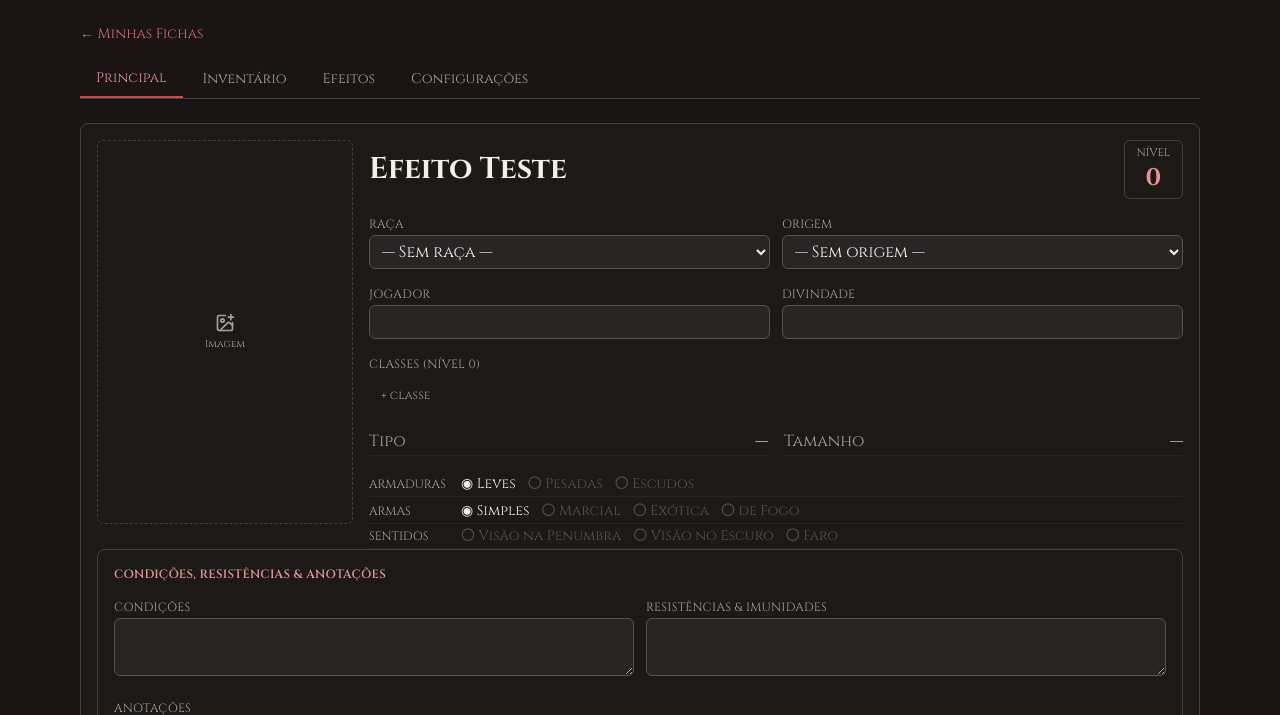
SheetEditor (página única) › abre a aba Efeitos e permite adicionar um efeito avulso
Click the tab "Efeitos".
click(349, 79)  # box [307,60,391,98]
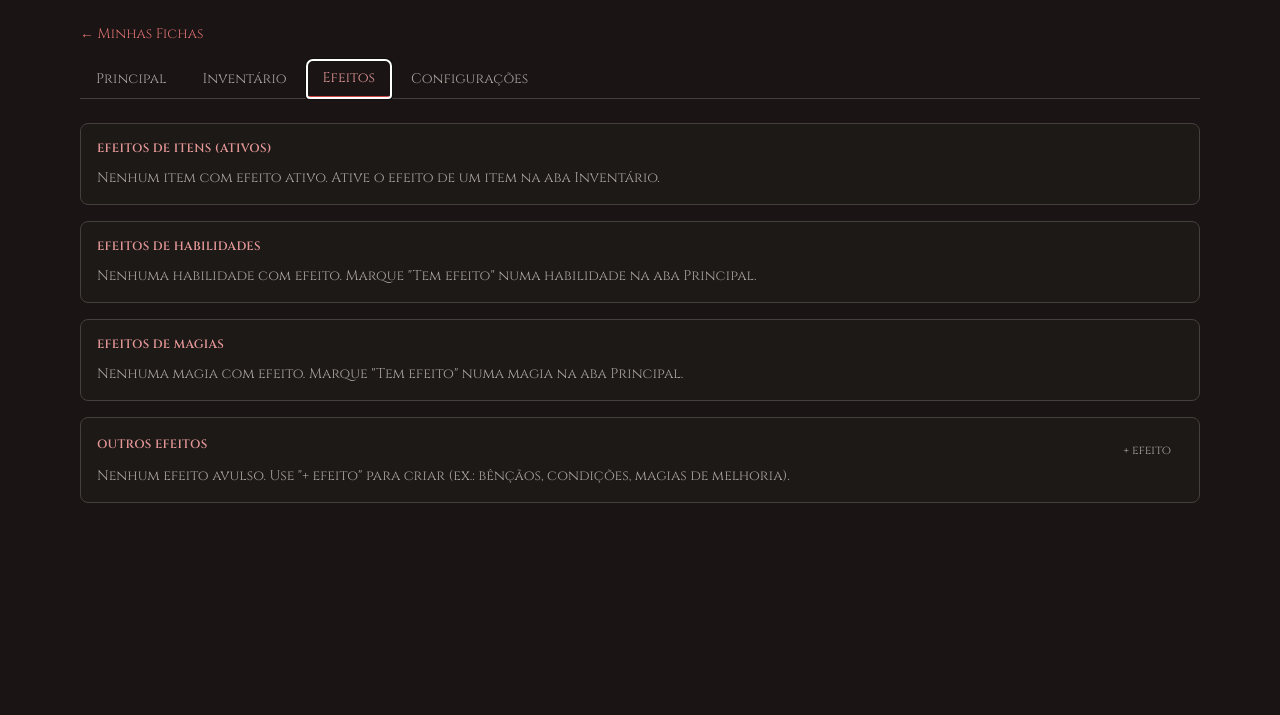
Click the button "+ efeito".
click(1147, 450)  # box [1111,434,1183,466]
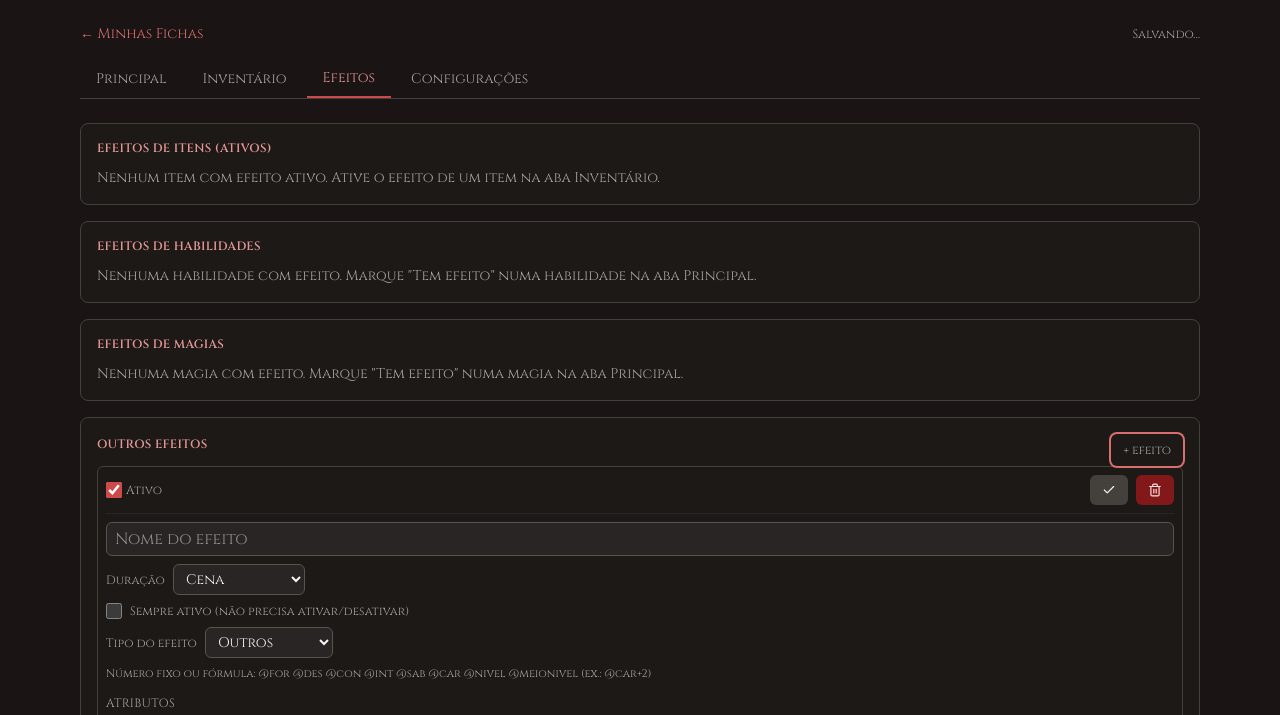
Now the field with placeholder "Nome do efeito" is shown, box [106,522,1174,556]
